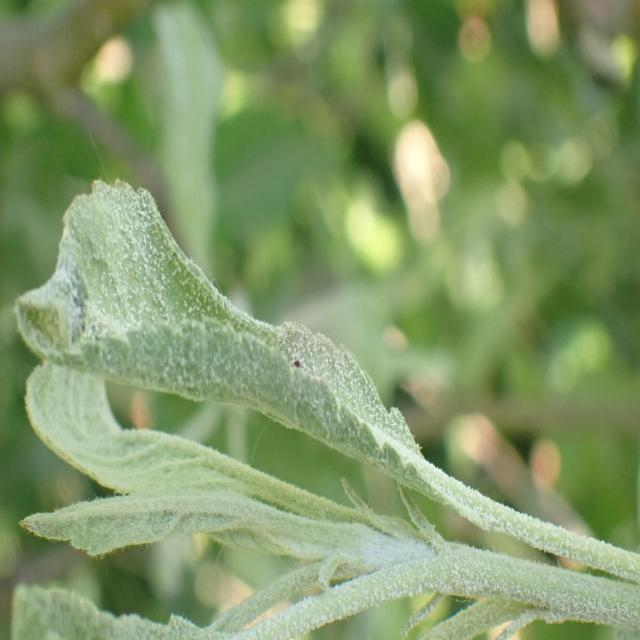Powdery_mildew: (18, 165, 448, 491), (22, 363, 396, 578), (0, 559, 349, 640)
